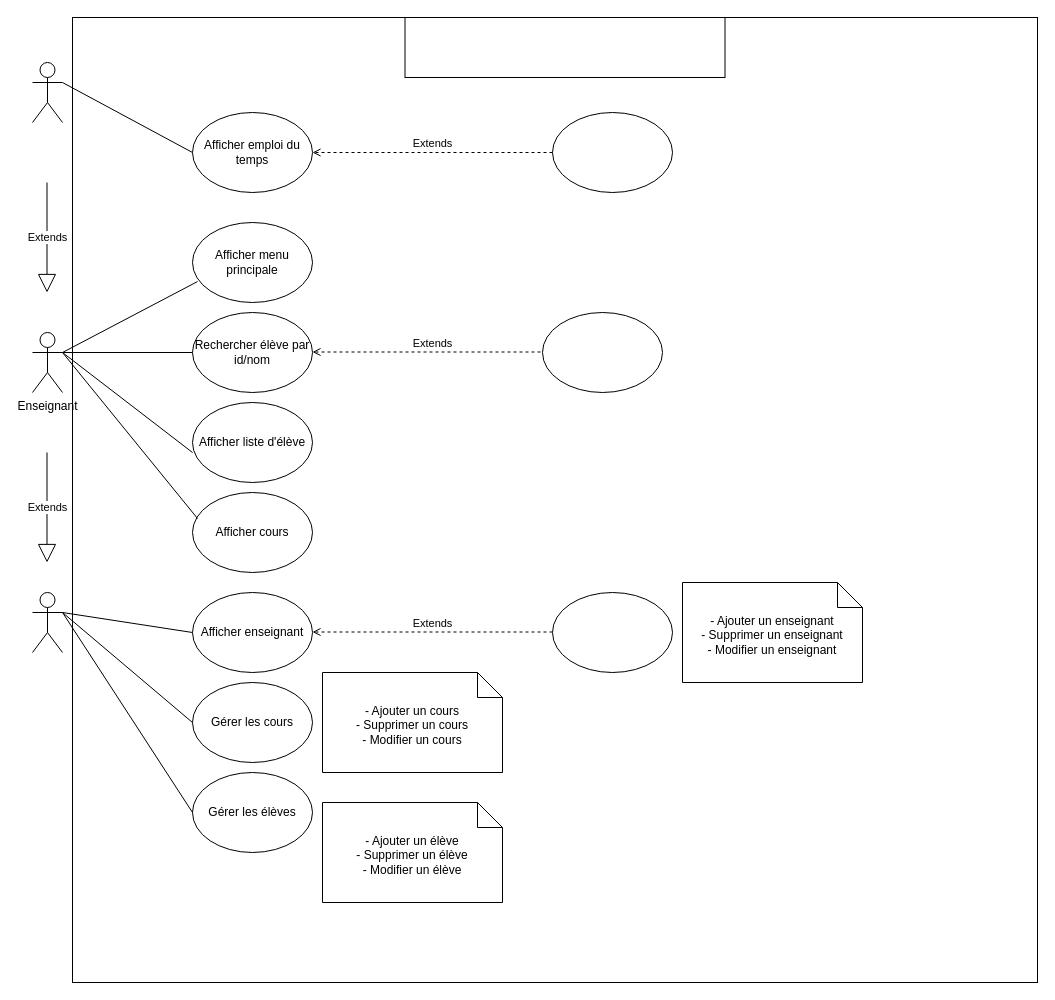
The diagram is 1055 pixels wide and 1000 high, and some of its shapes have lost their labels. The shapes that lost their labels are listed below. From the top down, each one's centre as x and y in pixels, then its label:
the point at 564,47: Application Ecole
the point at 47,92: Elève
the point at 612,152: Afficher les cours d'une periode
the point at 602,352: Afficher les informations de l'élève
the point at 47,622: Directeur
the point at 612,632: Gérer les enseignants
